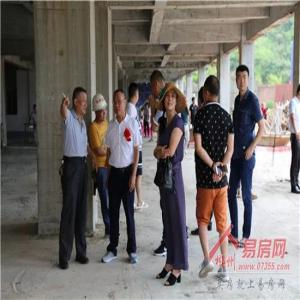none: (72, 85, 90, 119), (203, 75, 222, 105), (163, 86, 180, 114), (236, 63, 250, 96), (149, 68, 164, 97), (113, 89, 127, 118), (129, 81, 141, 105), (192, 96, 197, 106)
white: (92, 91, 109, 122)
